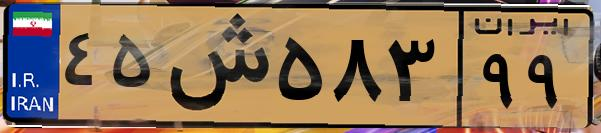3: (385, 28, 445, 110)
4: (57, 26, 110, 100)
5: (270, 28, 330, 110), (110, 28, 158, 98)
8: (330, 28, 385, 110)
9: (475, 38, 525, 113), (525, 38, 570, 115)
ش: (158, 12, 270, 120)
